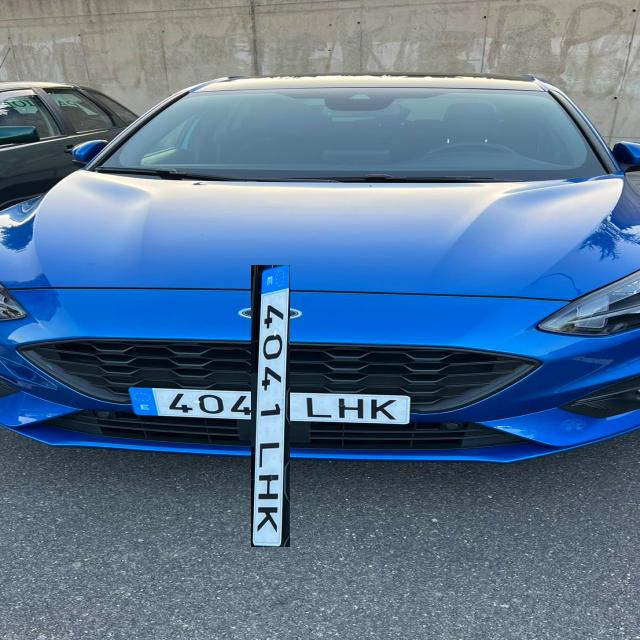License-Plate: (190, 326, 350, 487)
